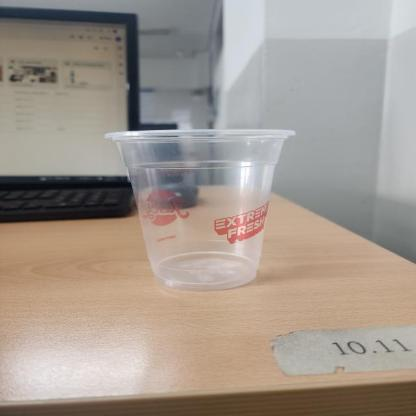Plastic Cup: (101, 128, 298, 290)
